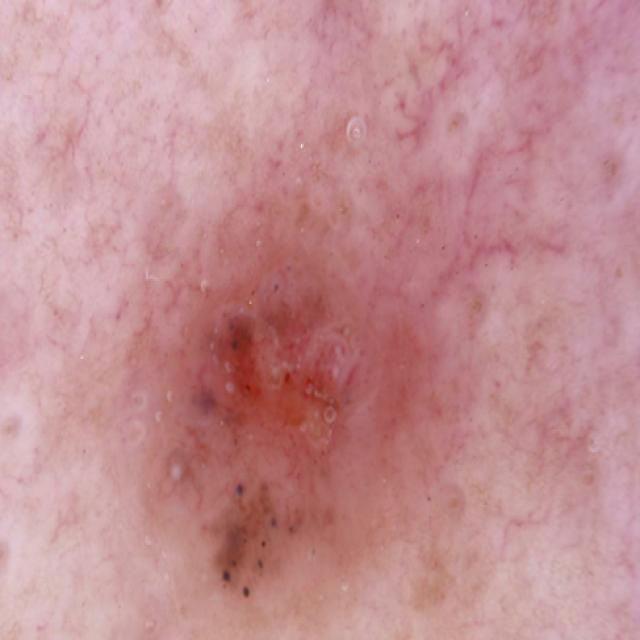Carcinoma: (108, 176, 443, 627)
